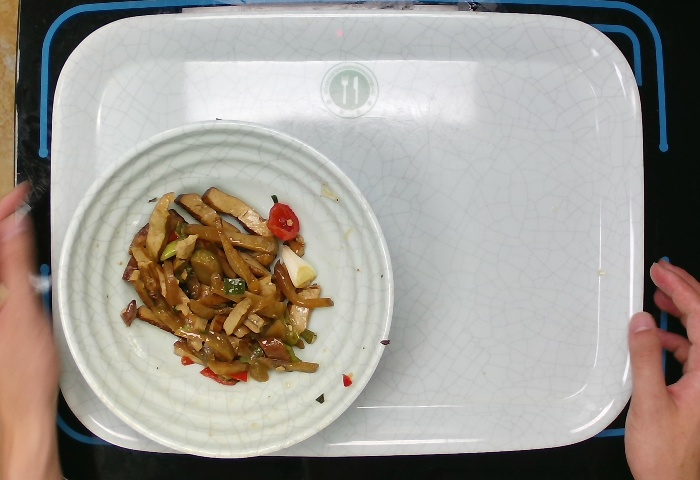JYsf-Da_Tang_Wan: (50, 112, 402, 464)
